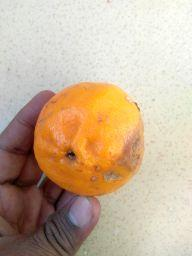Unripe: (32, 85, 144, 195)
